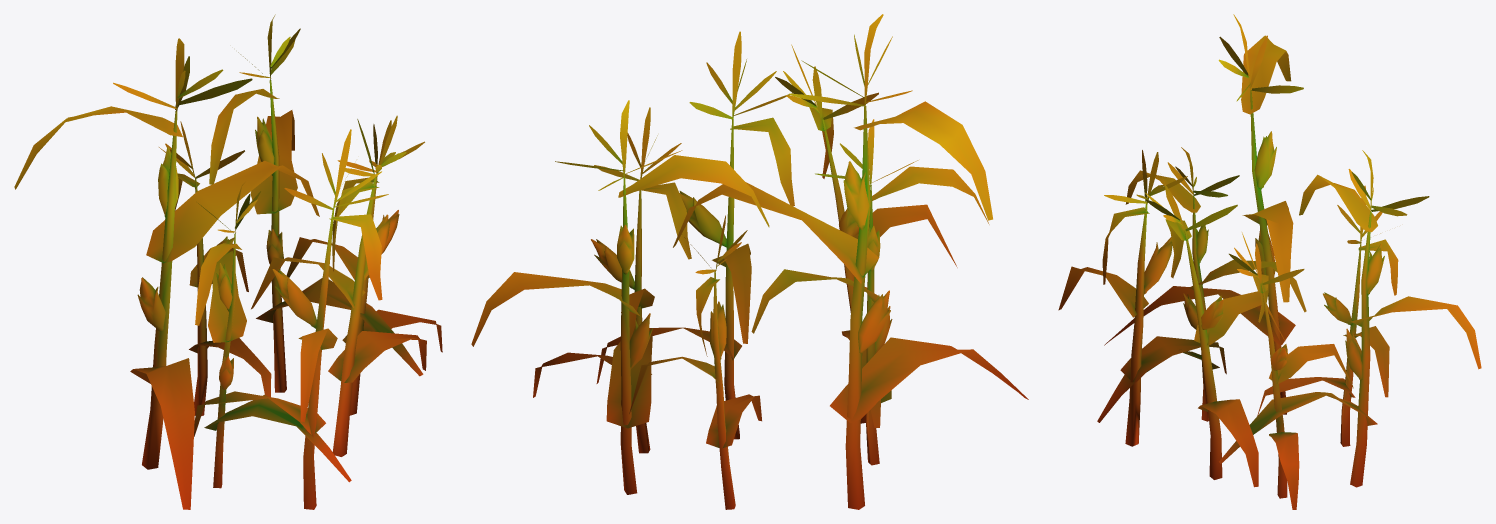
File: SM_Corn_3.fbx
3 views of the same model, side by side, from view 1: azimuth 30°, elevation 25°; view 2: azimuth 150°, elevation 25°; view 3: azimuth 270°, elevation 25° (orthographic). The views are drawn at different scales.
Visible parts, largest first — view 1: SM_Corn_3; view 2: SM_Corn_3; view 3: SM_Corn_3.
Part boxes in pixels (left/top/right/bottom): SM_Corn_3: left=14, top=14, right=442, bottom=509; SM_Corn_3: left=471, top=14, right=1028, bottom=509; SM_Corn_3: left=1058, top=14, right=1481, bottom=509.
Bounding box in the file's own units: 1.98 × 1.97 × 1.89.
